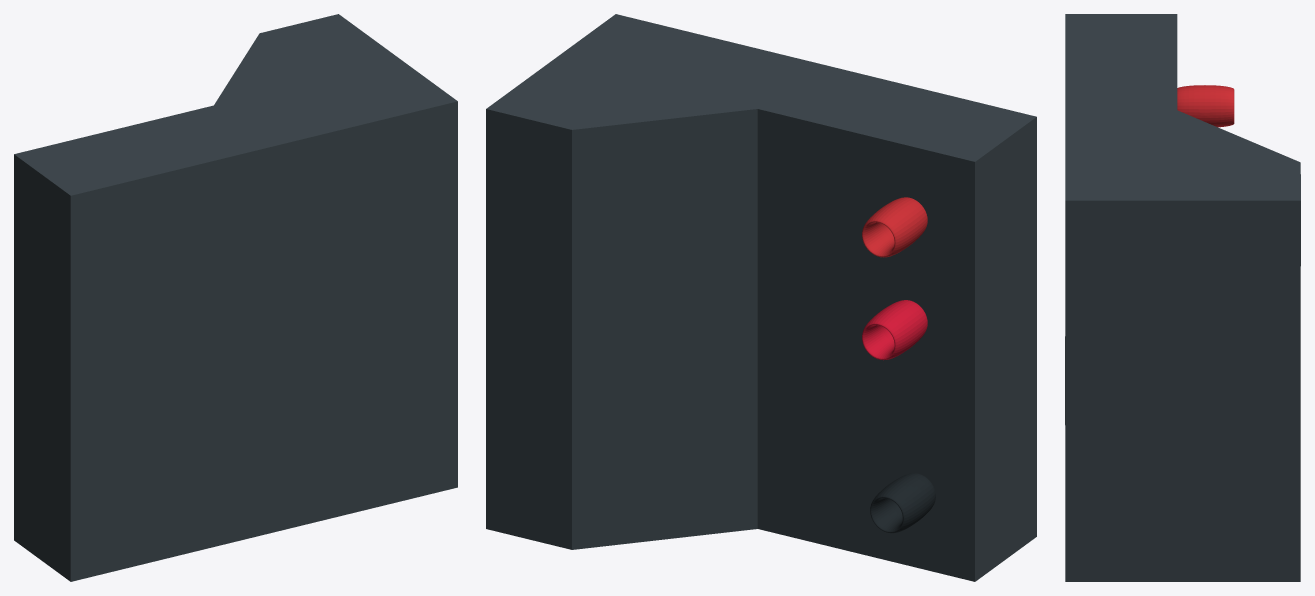
The model's file is ampevolt.fbx.
3 renders of one model, left to right at view 1: azimuth 30°, elevation 25°; view 2: azimuth 150°, elevation 25°; view 3: azimuth 270°, elevation 25°, orthographic. The views are drawn at different scales.
Visible parts, largest first — view 1: ShapeIndexedFaceSet; view 2: ShapeIndexedFaceSet; view 3: ShapeIndexedFaceSet.
Boxes of the visible parts, x1,y1,x2,y2 form: ShapeIndexedFaceSet: [14, 14, 457, 581]; ShapeIndexedFaceSet: [486, 14, 1036, 581]; ShapeIndexedFaceSet: [1065, 14, 1300, 581].
Bounding box in the file's own units: 10300 × 9818 × 5498.
